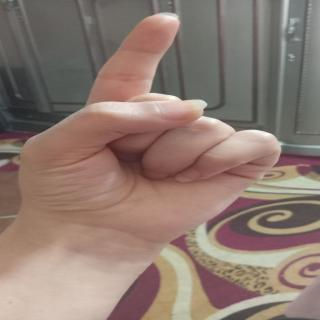BAA: (13, 6, 294, 252)
